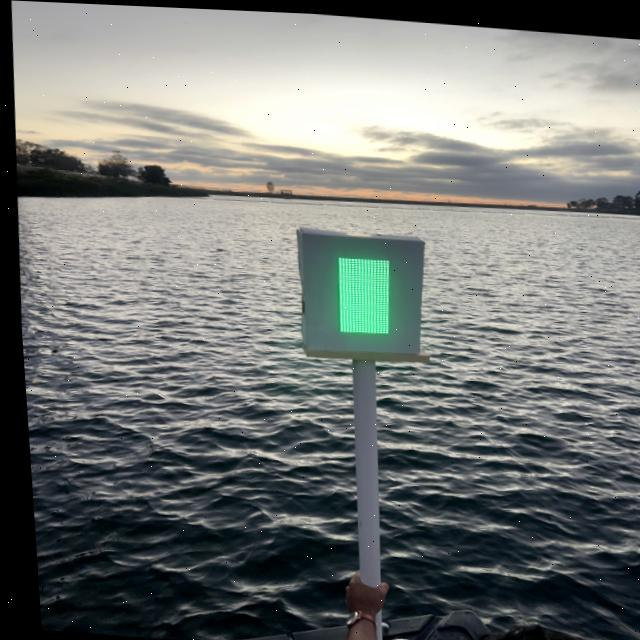led: (311, 241, 410, 344)
